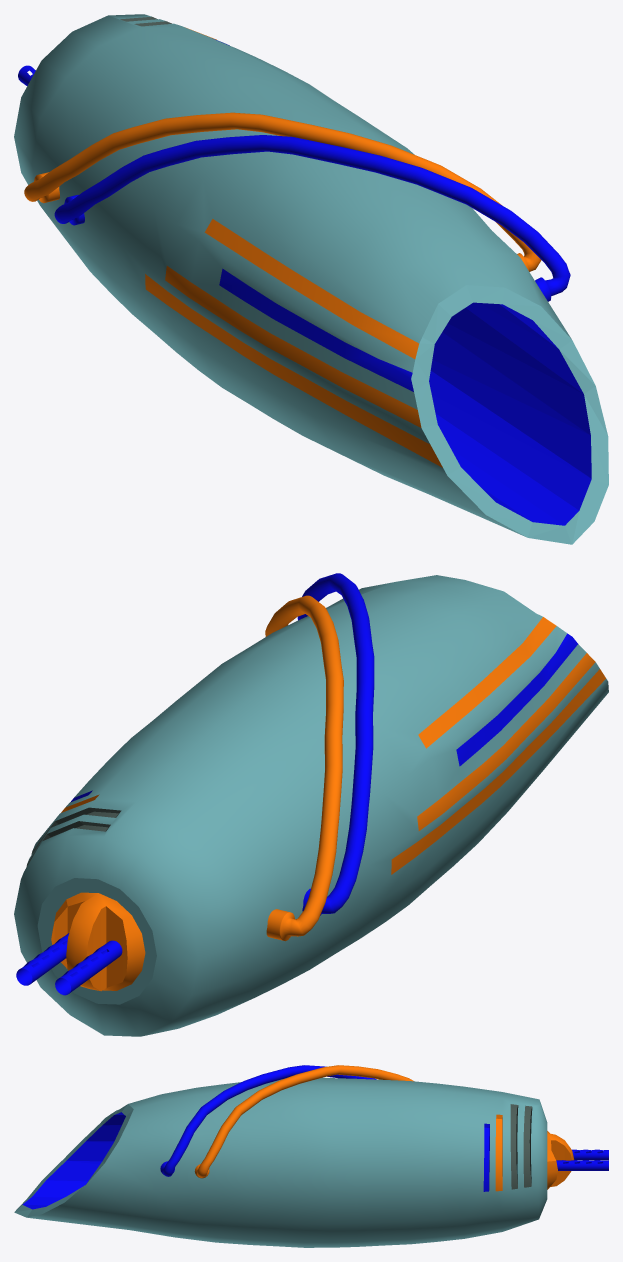
Rendered from waterpistool.FBX.
The picture shows the model from 3 angles, top to bottom: view 1: azimuth 30°, elevation 25°; view 2: azimuth 150°, elevation 25°; view 3: azimuth 270°, elevation 25°; orthographic projection. The views are drawn at different scales.
Visible parts, largest first — view 1: Frame, Wire002, Wire001; view 2: Frame, Wire001, Wire002, Barrel holder, Barrel2, Barrel1; view 3: Frame, Wire001, Wire002, Barrel holder, Barrel1, Barrel2.
Part boxes in pixels (<box>): Frame: <box>14,14,608,544</box>; Wire002: <box>54,135,570,301</box>; Wire001: <box>24,112,541,271</box>; Frame: <box>14,575,608,1036</box>; Wire001: <box>265,595,343,941</box>; Wire002: <box>297,573,374,915</box>; Barrel holder: <box>51,892,145,991</box>; Barrel2: <box>55,940,122,995</box>; Barrel1: <box>16,933,69,985</box>; Frame: <box>14,1077,547,1247</box>; Wire001: <box>194,1065,413,1178</box>; Wire002: <box>160,1065,376,1176</box>; Barrel holder: <box>547,1131,574,1189</box>; Barrel1: <box>556,1160,608,1170</box>; Barrel2: <box>572,1149,608,1160</box>.
Size of the model in its own units: 43.68 by 42.42 by 141.
